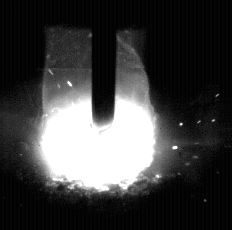arame: (92, 0, 116, 132)
poca: (38, 0, 157, 230)
